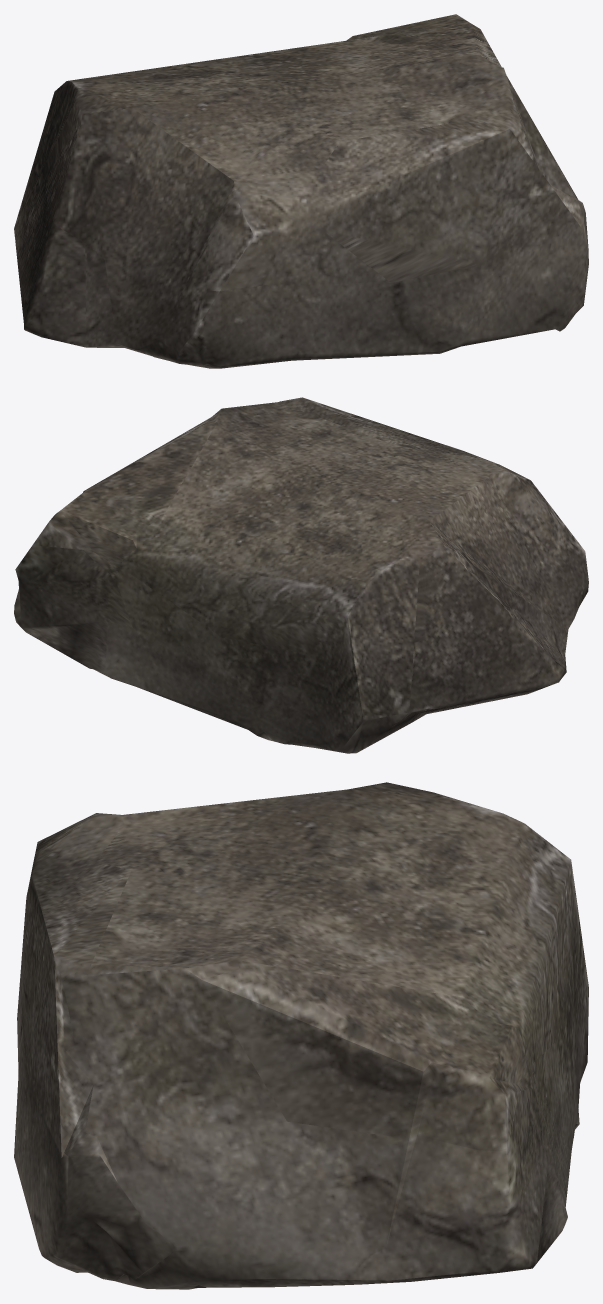
The model's file is RockE.fbx.
3 views of the same model, one above another, from view 1: azimuth 30°, elevation 25°; view 2: azimuth 150°, elevation 25°; view 3: azimuth 270°, elevation 25° (orthographic). The views are drawn at different scales.
Visible parts, largest first — view 1: RockABot_geo, RockATop_geo; view 2: RockABot_geo, RockATop_geo; view 3: RockABot_geo, RockATop_geo.
Boxes of the visible parts, x1,y1,x2,y2 form: RockABot_geo: (38,14,584,291); RockATop_geo: (14,146,588,368); RockABot_geo: (32,397,564,657); RockATop_geo: (14,524,588,753); RockABot_geo: (21,782,578,1157); RockATop_geo: (14,877,588,1289).
Size of the model in its own units: 169 by 71.28 by 118.
Materials: 1 (1 with a texture image).
